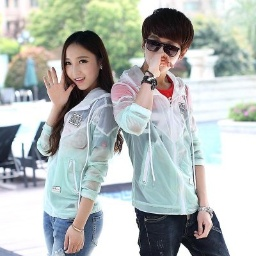face: (139, 6, 196, 79), (59, 28, 112, 91)
